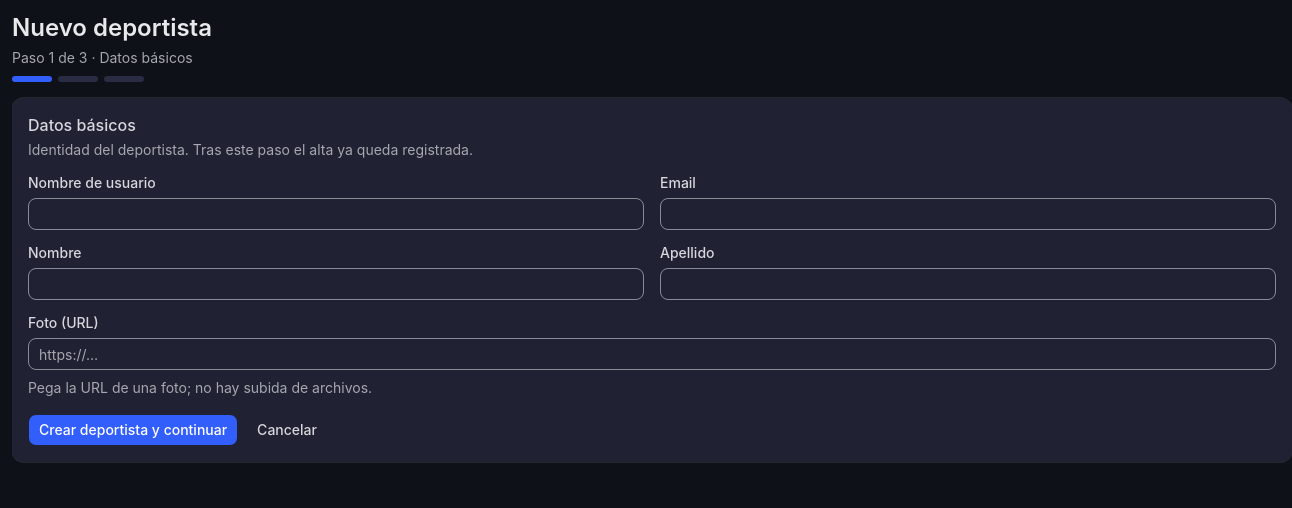
Test case: AthleteCreatePage — paso 1 › un 409 de username duplicado cae en el campo username con texto en español
Type "mphelps" into the field with test id "athlete-form-username" at x=336, y=214, box [28,198,644,230]
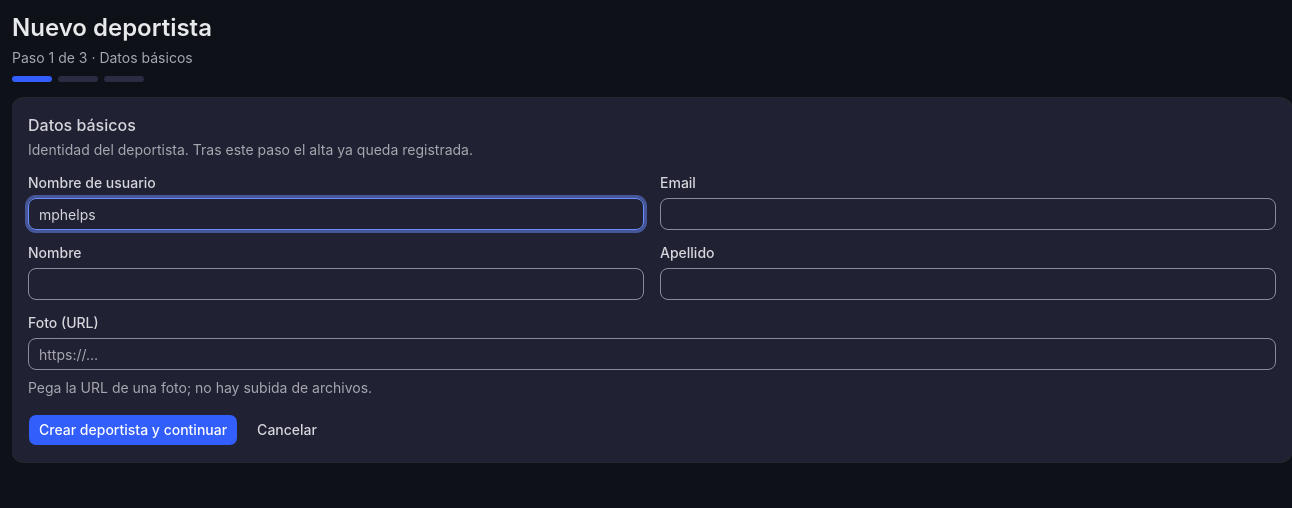
Type "mphelps@club.com" into the field with test id "athlete-form-email" at x=968, y=214, box [660,198,1276,230]
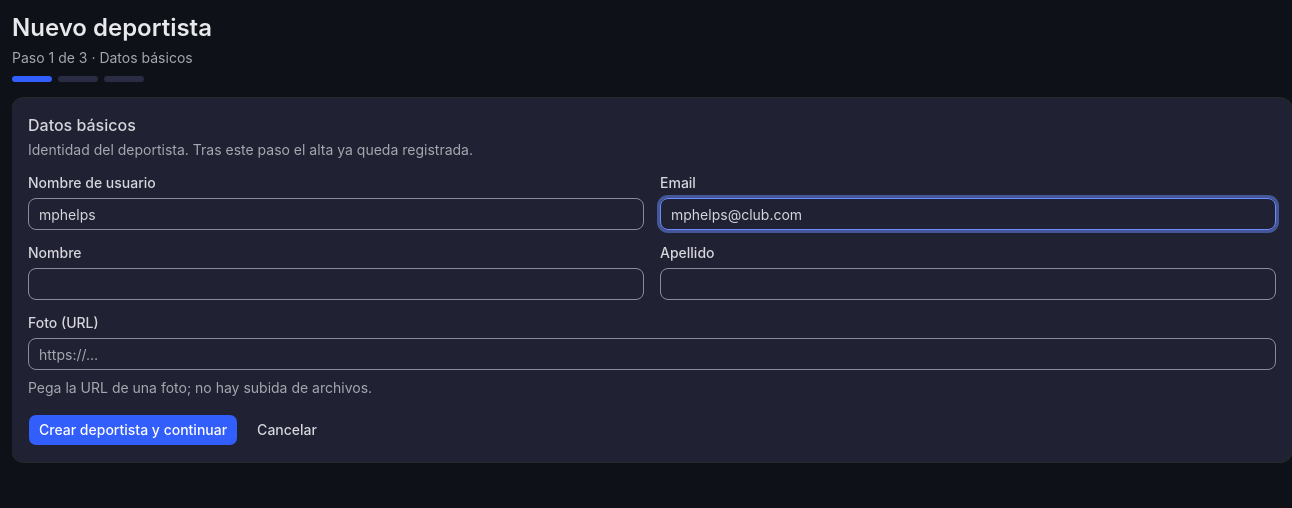
Type "Michael" into the field with test id "athlete-form-firstName" at x=336, y=284, box [28,268,644,300]
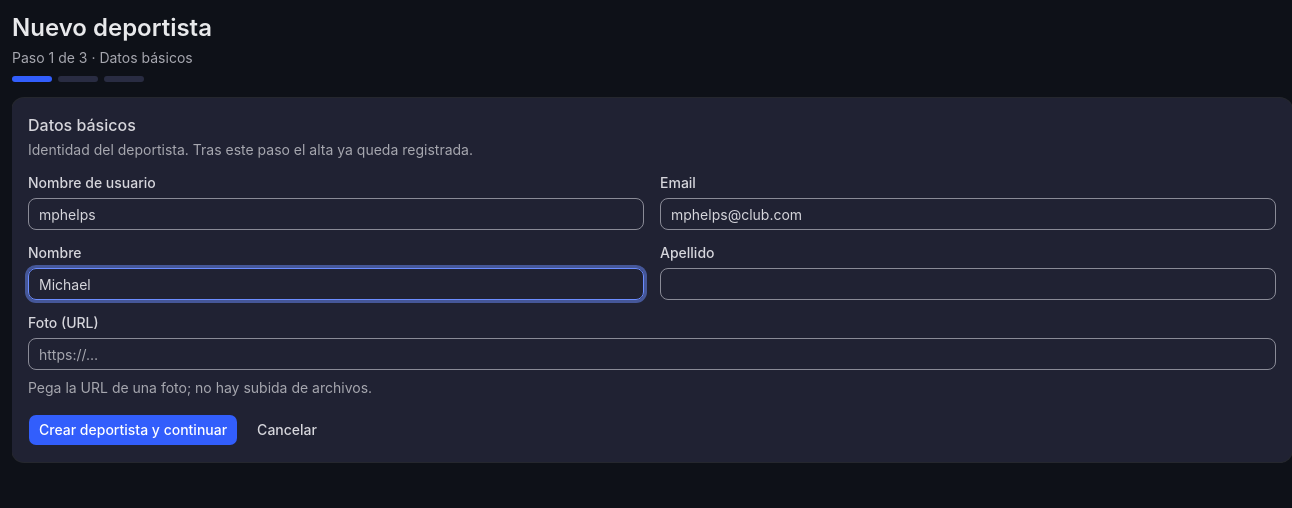
Type "Phelps" into the field with test id "athlete-form-lastName" at x=968, y=284, box [660,268,1276,300]
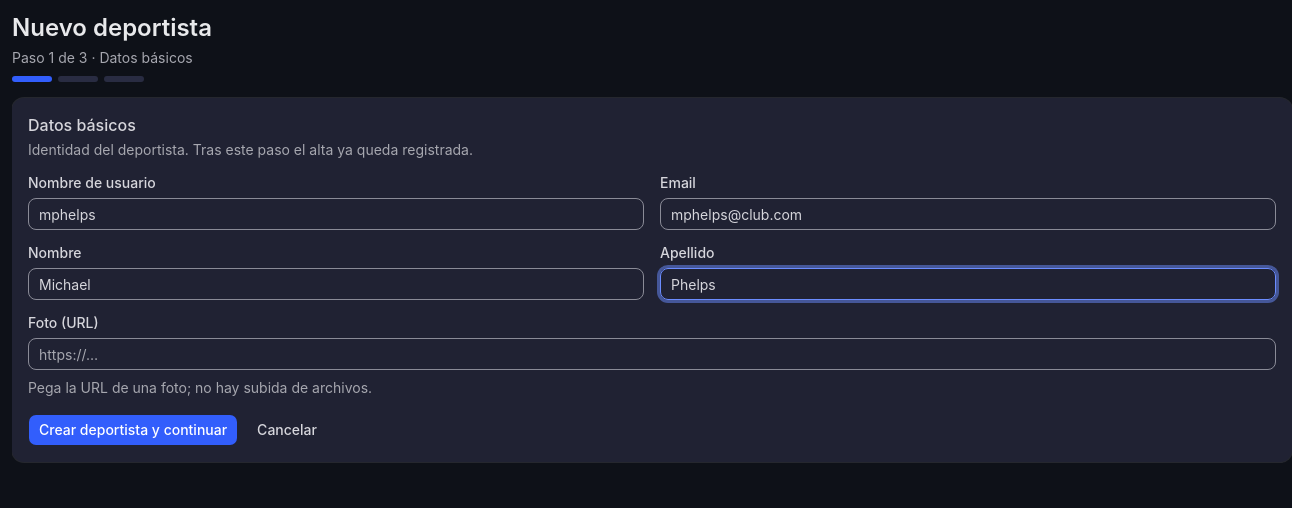
Click the button with test id "athlete-form-submit" at x=133, y=430, box [28,414,238,446]
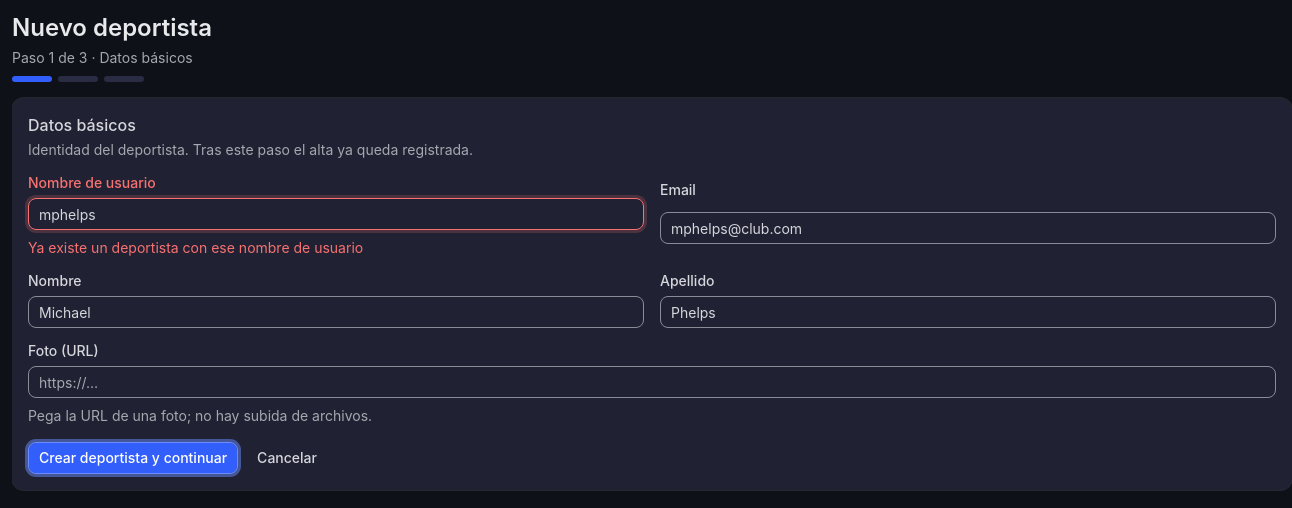
Now the text "Ya existe un deportista con ese nombre de usuario" is shown, box [28,239,363,256]
